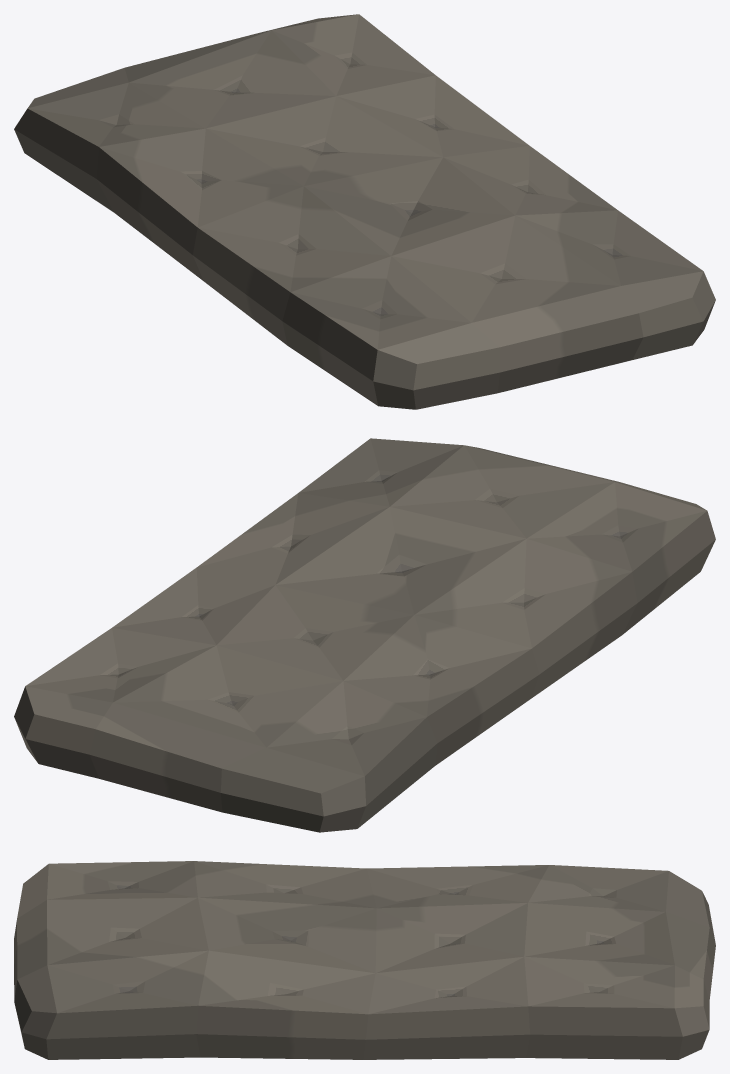
The model's file is SM_Prop_Bed_Mattress_01.glb.
3 views of the same model, one above another, from view 1: azimuth 30°, elevation 25°; view 2: azimuth 150°, elevation 25°; view 3: azimuth 270°, elevation 25° (orthographic). The views are drawn at different scales.
Visible parts, largest first — view 1: SM_Prop_Bed_Mattress_01; view 2: SM_Prop_Bed_Mattress_01; view 3: SM_Prop_Bed_Mattress_01.
Part boxes in pixels (bbox=[...]): SM_Prop_Bed_Mattress_01: bbox=[14, 14, 715, 409]; SM_Prop_Bed_Mattress_01: bbox=[14, 438, 715, 832]; SM_Prop_Bed_Mattress_01: bbox=[14, 861, 715, 1059].
Size of the model in its own units: 0.98 by 0.1959 by 1.9.
1 material, 1 textured.
